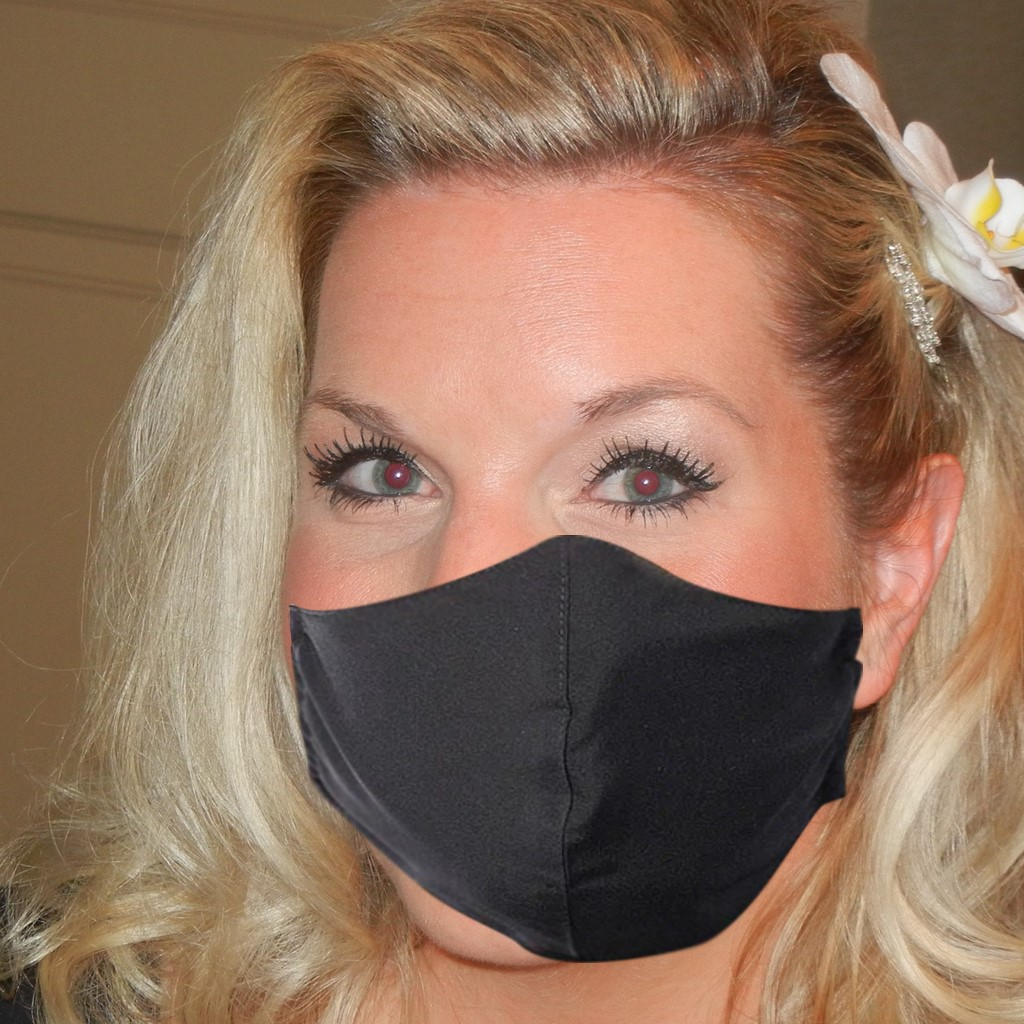con_mascara: (218, 93, 926, 947)
